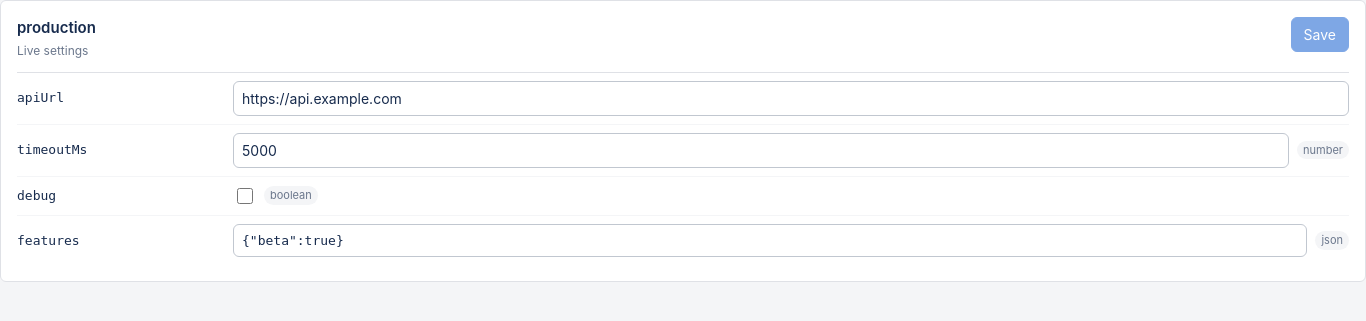
ConfigurationCard › refuses to send a value that does not parse and says why
Replace the text in the field labelled "timeoutMs" with "soon" at (761, 150), box [233, 132, 1289, 168]
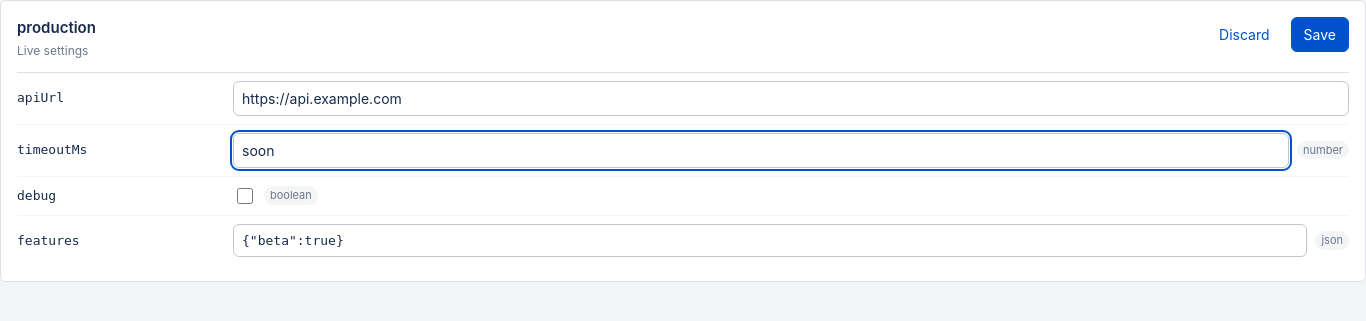
Click the button "Save" at (1320, 34), box [1291, 17, 1349, 52]
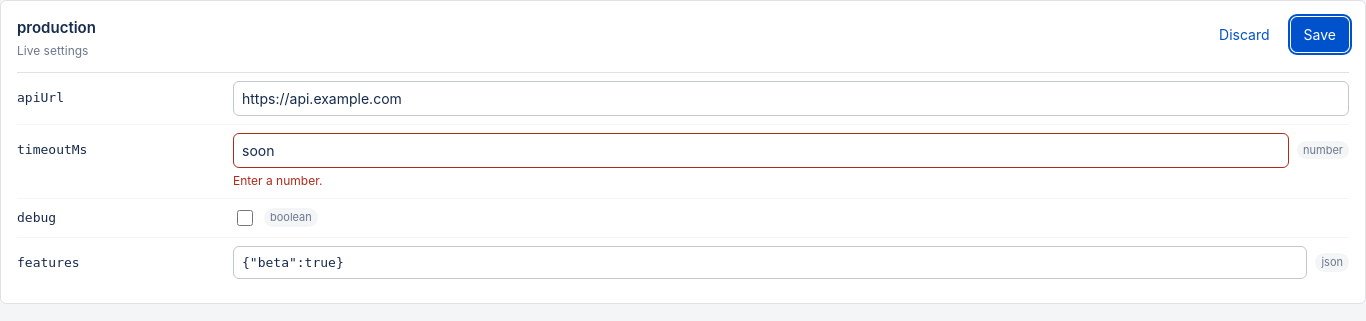
Expected: the text "Enter a number." is shown, [233, 172, 322, 188]
